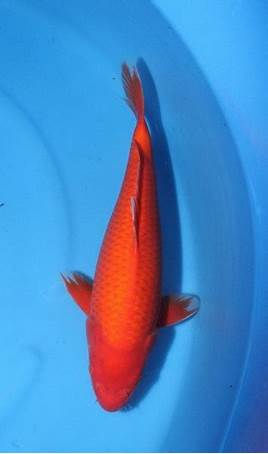red: (60, 56, 202, 414)
